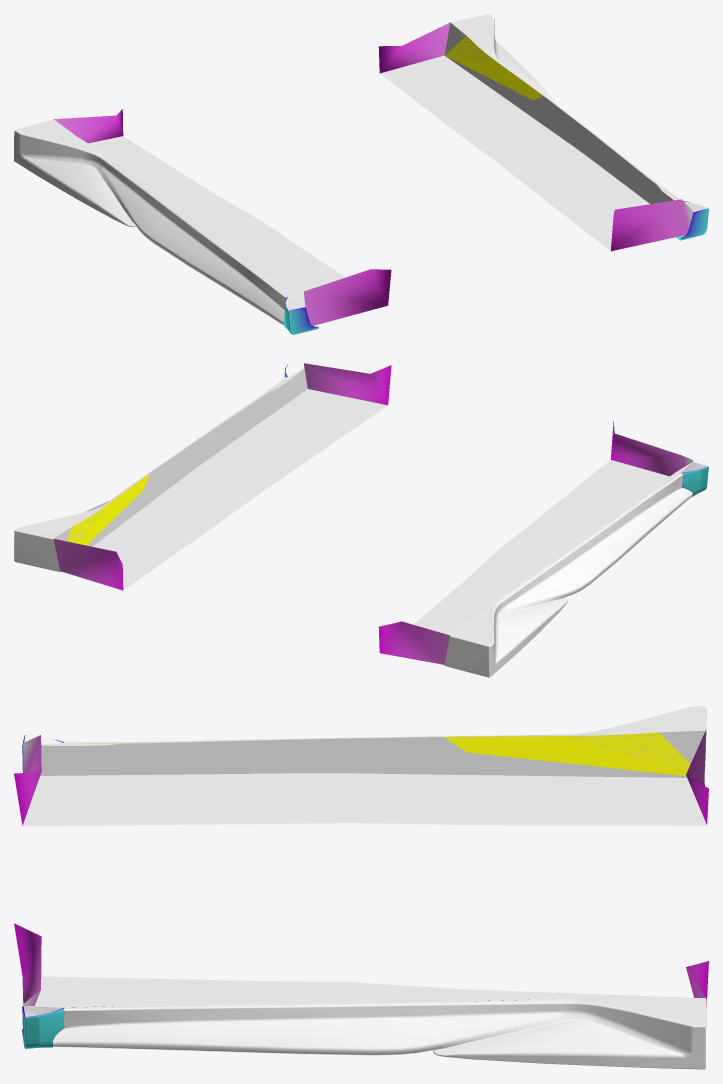
Rendered from Car_Mini_CountrymanJCW_2017_Skirts_SetF_AltC.fbx.
The picture shows the model from 3 angles, top to bottom: view 1: azimuth 30°, elevation 25°; view 2: azimuth 150°, elevation 25°; view 3: azimuth 270°, elevation 25°; orthographic projection. The views are drawn at different scales.
Parts seen in each view (by area): view 1: Skirts 6; view 2: Skirts 6; view 3: Skirts 6.
Boxes of the visible parts, x1=… form: Skirts 6: x1=14, y1=14, x2=708, y2=334; Skirts 6: x1=14, y1=363, x2=708, y2=677; Skirts 6: x1=14, y1=706, x2=708, y2=1069.
Size of the model in its own units: 2.07 by 0.1912 by 1.9.
